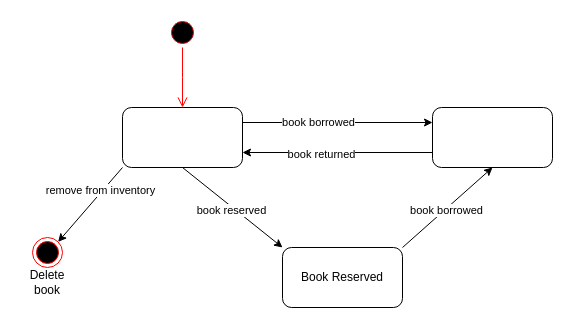
The diagram is 570 pixels wide and 325 high, and some of its shapes have lost their labels. The shapes that lost their labels are listed below. From the top down, each one's centre as x and y in pixels, then its label:
point 182,137: Book Available
point 492,137: Book Unavailable
